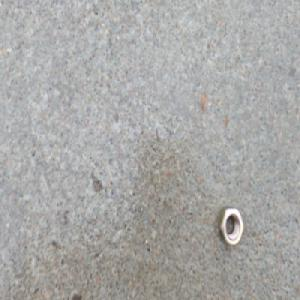Nut: (218, 205, 244, 248)
